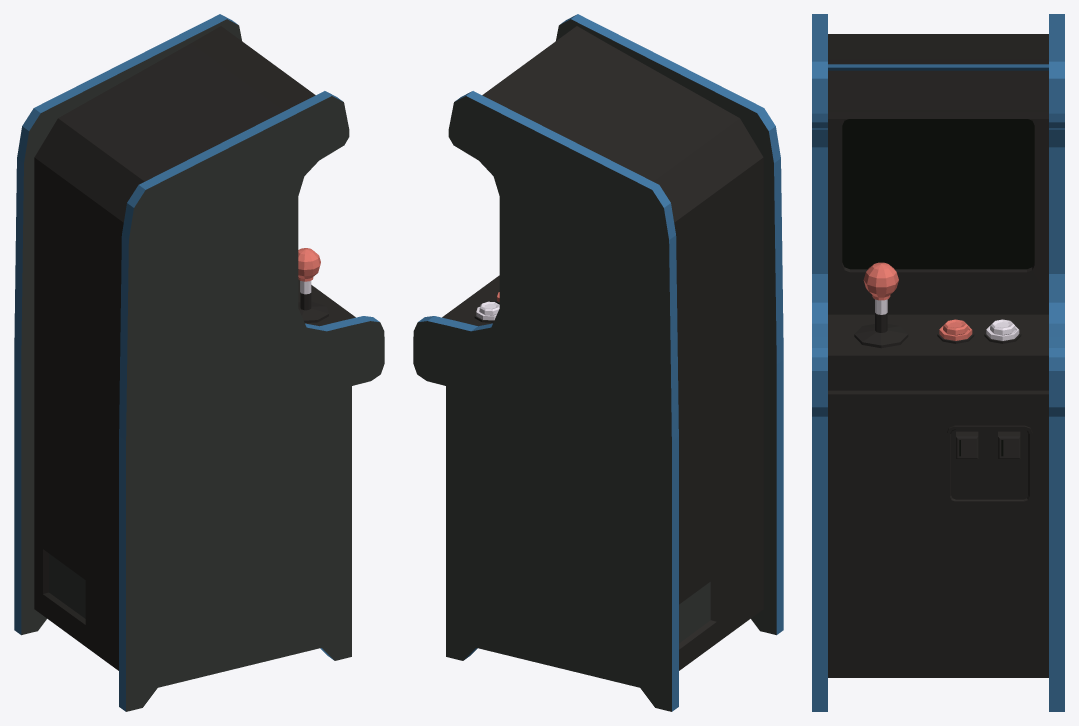
Rendered from arcade-machine.glb.
3 views of the same model, side by side, from view 1: azimuth 30°, elevation 25°; view 2: azimuth 150°, elevation 25°; view 3: azimuth 270°, elevation 25° (orthographic). The views are drawn at different scales.
Parts seen in each view (by area): view 1: ArcadeMachine_Cube.002; view 2: ArcadeMachine_Cube.002; view 3: ArcadeMachine_Cube.002, GameScreen_Plane.
Boxes of the visible parts, x1,y1,x2,y2 form: ArcadeMachine_Cube.002: (14,14,384,711); ArcadeMachine_Cube.002: (413,14,783,711); ArcadeMachine_Cube.002: (812,14,1064,711); GameScreen_Plane: (842,119,1034,269).
Bounding box in the file's own units: 1.24 × 2.59 × 0.927.
4 materials, 4 textured.
